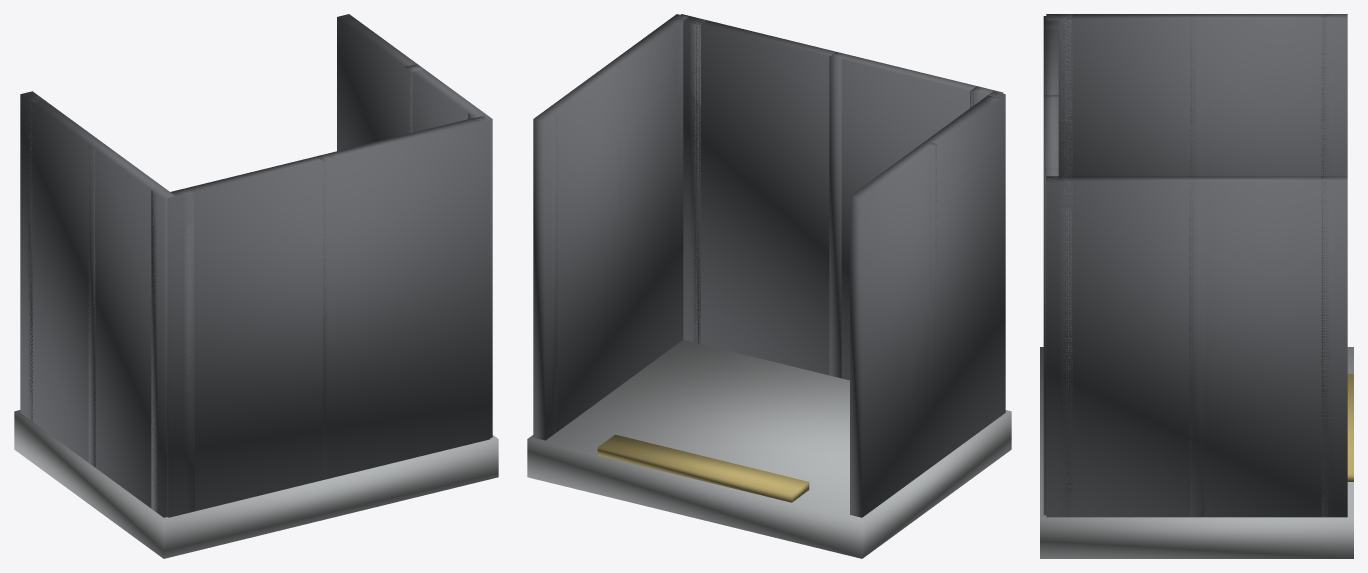
Rendered from landing_rust_w110_d85_window.glb.
3 views of the same model, side by side, from view 1: azimuth 30°, elevation 25°; view 2: azimuth 150°, elevation 25°; view 3: azimuth 270°, elevation 25° (orthographic). The views are drawn at different scales.
Visible parts, largest first — view 1: world; view 2: world; view 3: world.
Part boxes in pixels (box(x1,y1,x2,y2)): world: box(14, 14, 498, 558); world: box(527, 14, 1011, 558); world: box(1040, 14, 1353, 558).
Bounding box in the file's own units: 1.1 × 1.12 × 0.85.
